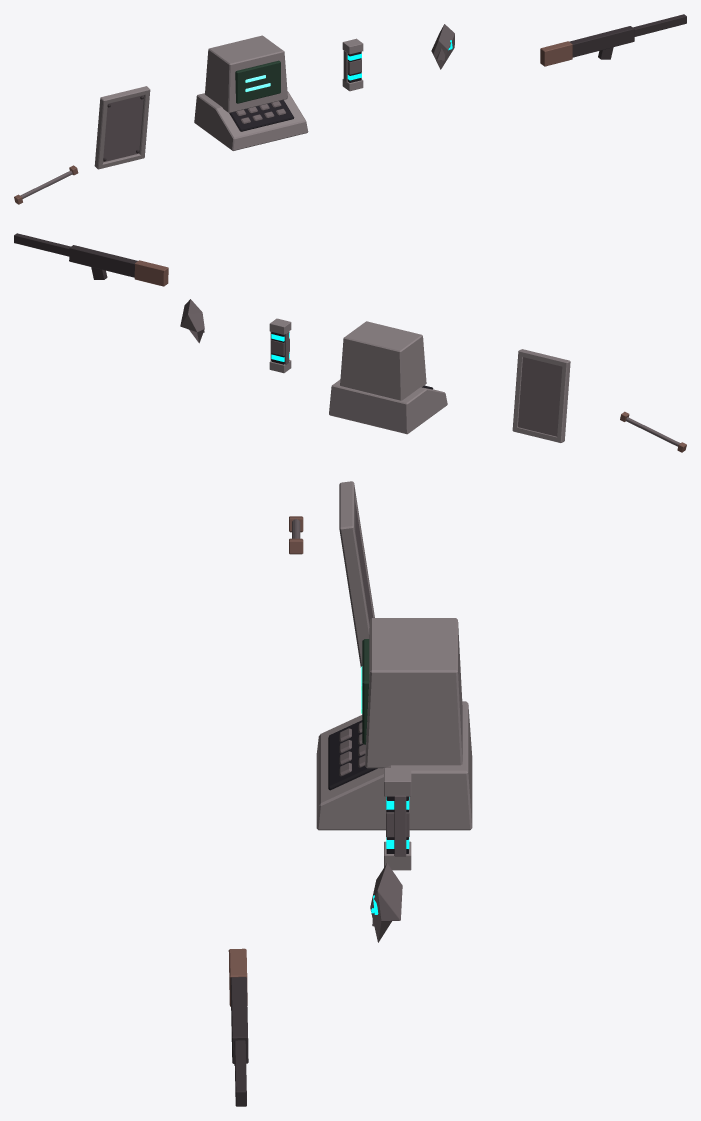
The model's file is objetos.fbx.
3 renders of one model, top to bottom at view 1: azimuth 30°, elevation 25°; view 2: azimuth 150°, elevation 25°; view 3: azimuth 270°, elevation 25°, orthographic. The views are drawn at different scales.
Parts seen in each view (by area): view 1: pc, bandeja, arma, celula de energia, memoria, cano; view 2: pc, bandeja, arma, celula de energia, memoria, cano; view 3: pc, bandeja, celula de energia, arma, memoria.
Boxes of the visible parts, left/top/right/bottom form: pc: left=194, top=35, right=308, bottom=150; bandeja: left=94, top=86, right=150, bottom=169; arma: left=540, top=14, right=686, bottom=66; celula de energia: left=342, top=38, right=363, bottom=91; memoria: left=431, top=24, right=454, bottom=69; cano: left=14, top=165, right=78, bottom=204; pc: left=329, top=321, right=447, bottom=434; bandeja: left=512, top=349, right=570, bottom=442; arma: left=14, top=233, right=168, bottom=286; celula de energia: left=269, top=318, right=291, bottom=373; memoria: left=180, top=299, right=204, bottom=343; cano: left=620, top=411, right=686, bottom=452; pc: left=316, top=618, right=472, bottom=830; bandeja: left=339, top=481, right=374, bottom=667; celula de energia: left=384, top=768, right=411, bottom=870; arma: left=228, top=948, right=248, bottom=1106; memoria: left=370, top=863, right=402, bottom=942.
Bounding box in the file's own units: 11.18 × 1.27 × 1.79.
